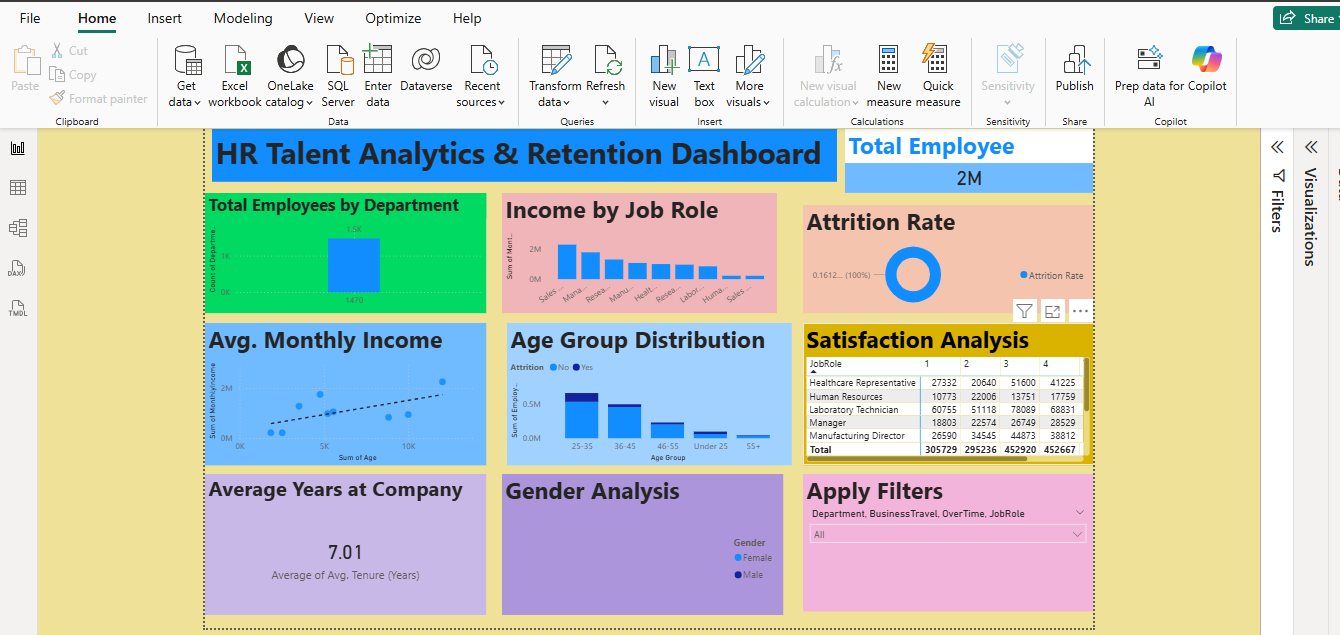

The dashboard page shown, as its layout file describes it:
{"tool":"powerbi","page":{"name":"Page 1","canvas":[1280,720],"ordinal":0},"visuals":[{"type":"textbox","box":[10.1,1.7,900.4,75.6],"z":0},{"type":"card","title":"Total Employees","fields":{"Values":["Sum(HR Documents.Total Employees)"]},"box":[921.6,1.4,358.6,105.1],"z":1000},{"type":"clusteredColumnChart","title":"Employees by Department","fields":{"Y":["CountNonNull(HR Documents.Department)"],"Category":["HR Documents.Total Employees"]},"box":[0,94.1,404.8,173],"z":2000},{"type":"donutChart","title":"Attrition Rate","fields":{"Y":["HR Documents.Attrition Rate"]},"box":[861.1,119.5,419,146.9],"z":3000},{"type":"pieChart","title":"Gender Analysis","fields":{"Category":["HR Documents.Gender"]},"box":[428.3,498.9,404.8,203.3],"z":4000},{"type":"clusteredColumnChart","title":"Income by Job Role","fields":{"Category":["HR Documents.JobRole"],"Y":["Sum(HR Documents.MonthlyIncome)"]},"box":[428.3,94.1,396.4,173],"z":5000},{"type":"columnChart","title":"Age Group Distribution","fields":{"Category":["HR Documents.Age Group"],"Series":["HR Documents.Attrition"],"Y":["Sum(HR Documents.EmployeeNumber)"]},"box":[435.1,280.5,409.9,204.9],"z":6000},{"type":"pivotTable","title":"Satisfaction Analysis","fields":{"Rows":["HR Documents.JobRole"],"Columns":["HR Documents.JobSatisfaction"],"Values":["Sum(HR Documents.EmployeeNumber)"]},"box":[861.7,280.5,418.3,204.9],"z":6001},{"type":"scatterChart","title":"Avg. Monthly Income","fields":{"X":["Sum(HR Documents.Age)"],"Y":["Sum(HR Documents.MonthlyIncome)"],"Category":["HR Documents.JobRole"]},"box":[0,280.5,404.8,204.9],"z":6002},{"type":"card","title":"Average Years at Company","fields":{"Values":["Avg(HR Documents.YearsAtCompany)"]},"box":[0,498.9,404.8,203.3],"z":6003},{"type":"slicer","title":"Filter Insights","fields":{"Values":["HR Documents.Department","HR Documents.BusinessTravel","HR Documents.OverTime","HR Documents.JobRole"]},"box":[861.7,498.9,418.3,198.2],"z":6004}]}

Visuals, with their boxes on the page's 1280x720 design canvas (x1, y1, x2, y2). These are canvas units, not pixel positions in the 1340x635 screenshot, which may show the page scaled, cropped or inside an application window:
textbox: (x1=10, y1=2, x2=910, y2=77)
"Total Employees" card: (x1=922, y1=1, x2=1280, y2=106)
"Employees by Department" clusteredColumnChart: (x1=0, y1=94, x2=405, y2=267)
"Attrition Rate" donutChart: (x1=861, y1=120, x2=1280, y2=266)
"Gender Analysis" pieChart: (x1=428, y1=499, x2=833, y2=702)
"Income by Job Role" clusteredColumnChart: (x1=428, y1=94, x2=825, y2=267)
"Age Group Distribution" columnChart: (x1=435, y1=280, x2=845, y2=485)
"Satisfaction Analysis" pivotTable: (x1=862, y1=280, x2=1280, y2=485)
"Avg. Monthly Income" scatterChart: (x1=0, y1=280, x2=405, y2=485)
"Average Years at Company" card: (x1=0, y1=499, x2=405, y2=702)
"Filter Insights" slicer: (x1=862, y1=499, x2=1280, y2=697)
